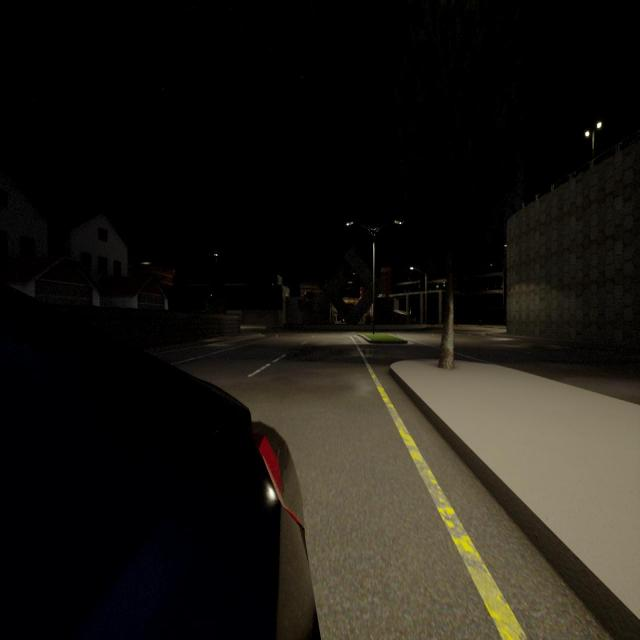Vehicle: (0, 290, 313, 640)
